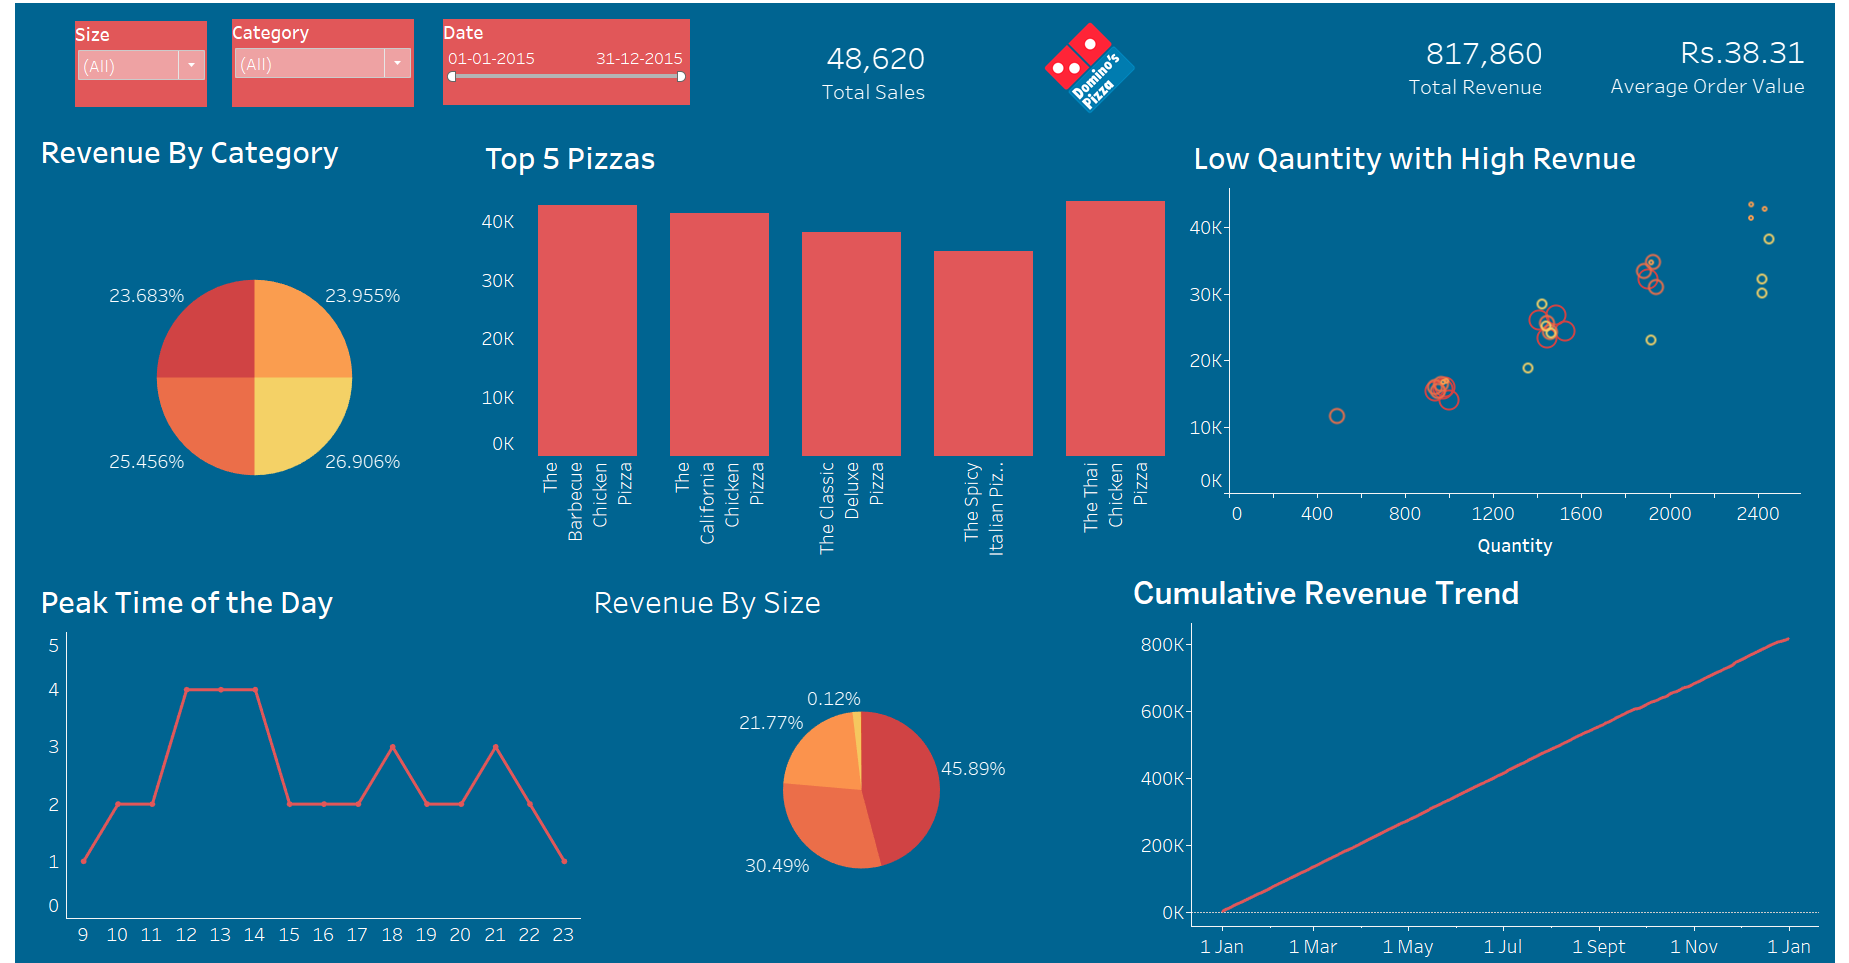

Layout of this report page (visuals, bound fields, positions):
{"tool":"tableau","page":{"name":"Dashboard 1","canvas":[1000,1000],"units":"permille","ordinal":0},"visuals":[{"type":"worksheet","title":"Sheet 9","mark":"Automatic","box":[836.4,1.3,151.8,126.3]},{"type":"worksheet","title":"Sheet 8","mark":"Automatic","box":[359.9,5.3,144.4,130.3]},{"type":"filter","title":"Sheet 2","param":"[federated.1qjfjtw135h1fr16z24br1ujzfay].[none:category:nk]","box":[119.1,17.1,100,92.1]},{"type":"filter","title":"Sheet 4","param":"[federated.1qjfjtw135h1fr16z24br1ujzfay].[none:date:qk]","box":[235.2,17.1,135.8,89.5]},{"type":"filter","title":"Sheet 3","param":"[federated.1qjfjtw135h1fr16z24br1ujzfay].[none:size:nk]","box":[32.7,18.4,72.8,89.5]},{"type":"image","param":"Image/Dominos-Pizza-Logo-1996-2012.png","box":[453.1,18.4,274.1,97.4]},{"type":"worksheet","title":"Sheet 2","mark":"Pie","box":[11.7,127.6,240.1,465.8]},{"type":"worksheet","title":"top 5","mark":"Automatic","rows":["Calculation_2234348388335861760"],"cols":["name"],"box":[253.7,130.3,437,457.9]},{"type":"worksheet","title":"Sheet 6","mark":"Automatic","rows":["Calculation_2234348388335861760"],"cols":["quantity"],"box":[690.7,130.3,292.6,457.9]},{"type":"worksheet","title":"Sheet 3","mark":"Automatic","rows":["quantity"],"cols":["time"],"box":[9.3,592.5,304,395.3]},{"type":"worksheet","title":"Sheet 5","mark":"Pie","box":[313.3,592.5,304,395.3]},{"type":"worksheet","title":"Sheet 4","mark":"Automatic","rows":["Calculation_2234348388335861760"],"cols":["date"],"box":[612.4,592.5,379,401.9]}]}

Visuals, with their boxes on the dashboard's canvas, which has no fixed pixel size, in thousandths of its width and height (x1, y1, x2, y2). These are canvas units, not pixel positions in the 1849x963 screenshot, which may show the page scaled, cropped or inside an application window:
"Sheet 9" worksheet: region(836, 1, 988, 128)
"Sheet 8" worksheet: region(360, 5, 504, 136)
"Sheet 2" filter: region(119, 17, 219, 109)
"Sheet 4" filter: region(235, 17, 371, 107)
"Sheet 3" filter: region(33, 18, 106, 108)
image: region(453, 18, 727, 116)
"Sheet 2" worksheet (Pie marks): region(12, 128, 252, 593)
"top 5" worksheet: region(254, 130, 691, 588)
"Sheet 6" worksheet: region(691, 130, 983, 588)
"Sheet 3" worksheet: region(9, 592, 313, 988)
"Sheet 5" worksheet (Pie marks): region(313, 592, 617, 988)
"Sheet 4" worksheet: region(612, 592, 991, 994)
